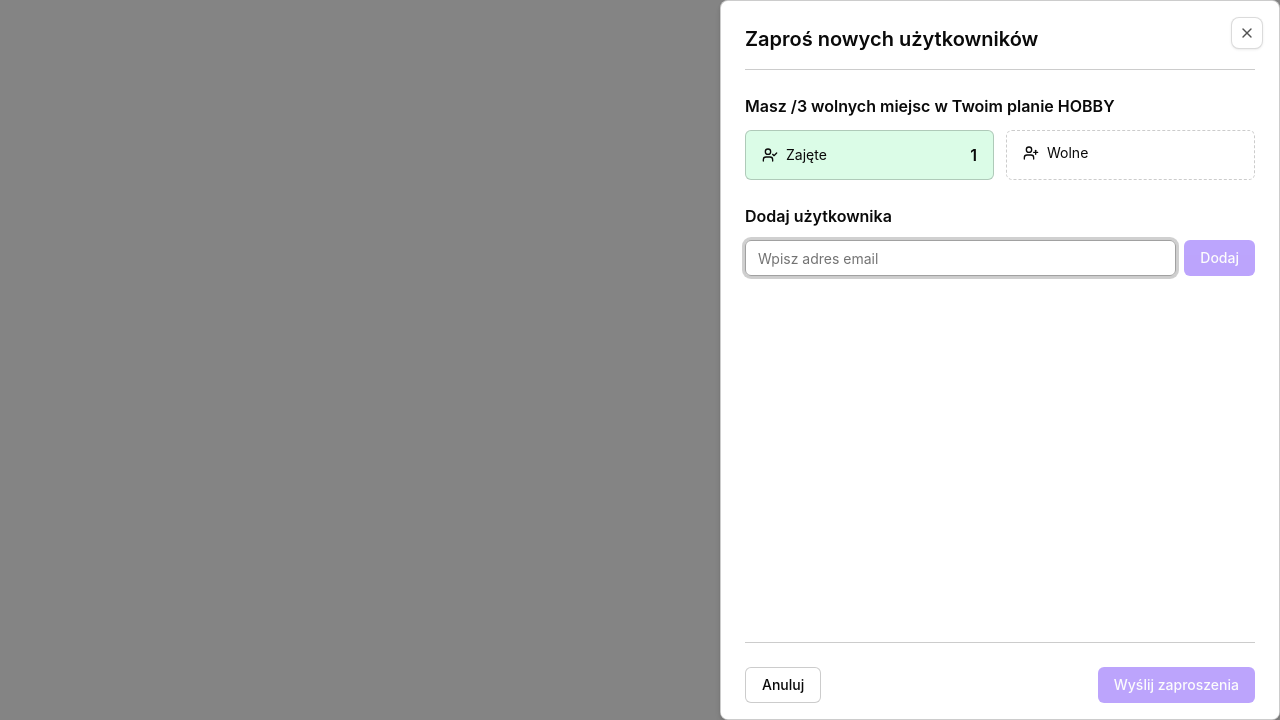
Test case: InviteUsersDialog › Removing Invitations › should remove invitation when delete button clicked
# Add an invitation
Type "test@example.com" into the field with placeholder "Wpisz adres email". click: (961, 258)
box: [745, 240, 1176, 276]
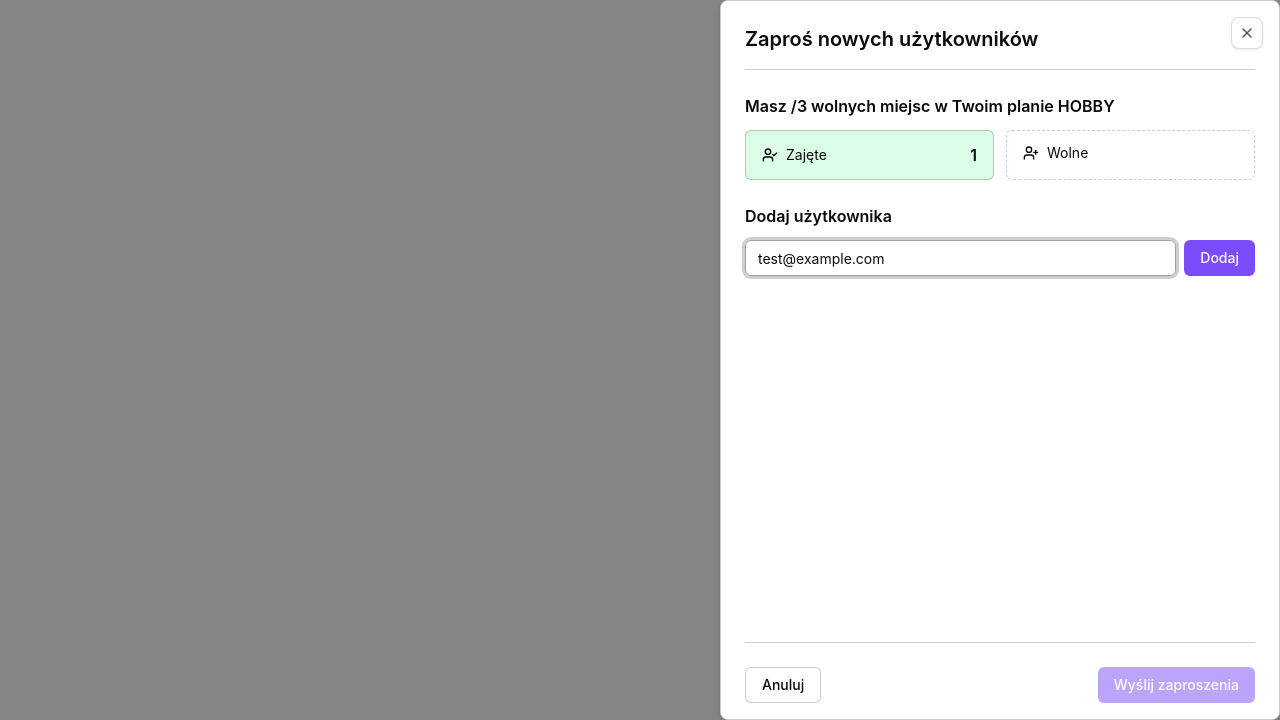
Click the button "Dodaj". click: (1220, 258)
box: [1184, 240, 1255, 276]
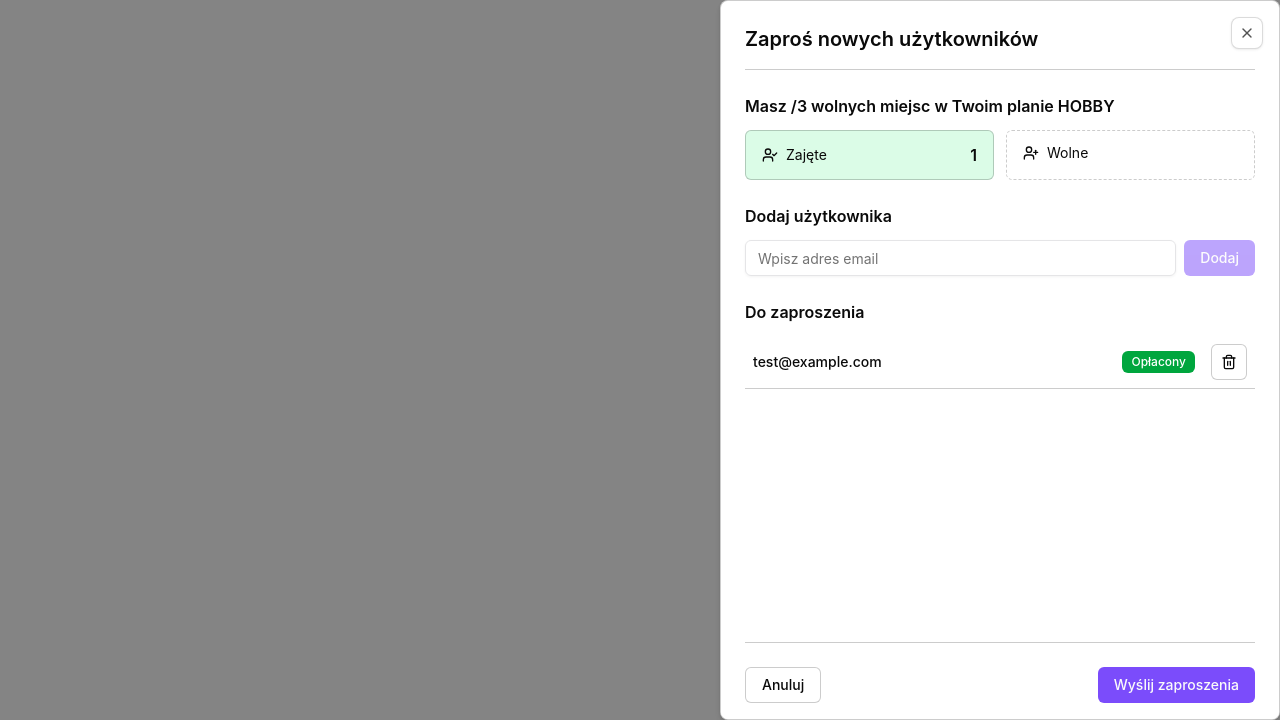
Expected: the text "test@example.com" is shown, [753, 353, 882, 370]
Click the button named "usuń zaproszenie dla test@example.com". click: (1229, 362)
box: [1211, 344, 1247, 380]
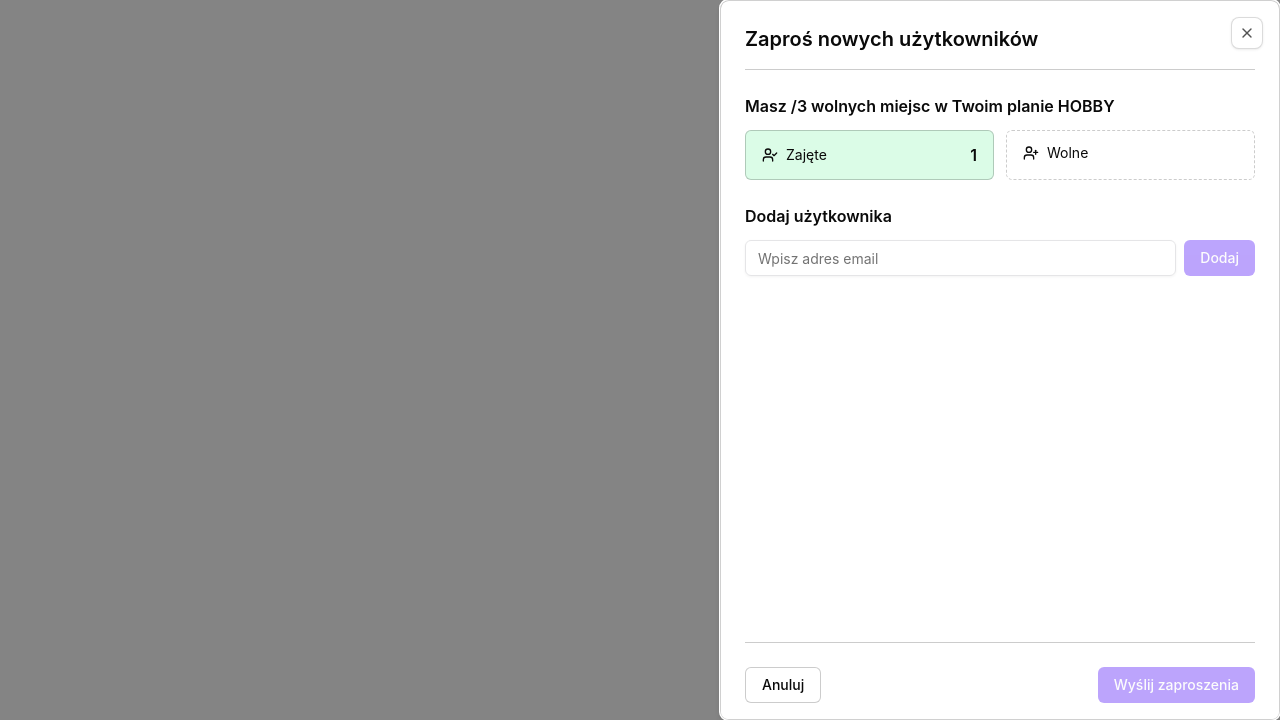
Expected: the text "test@example.com" is gone
